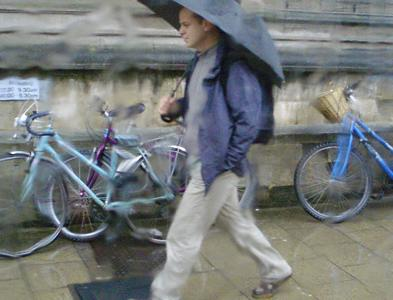person: (150, 8, 294, 300)
